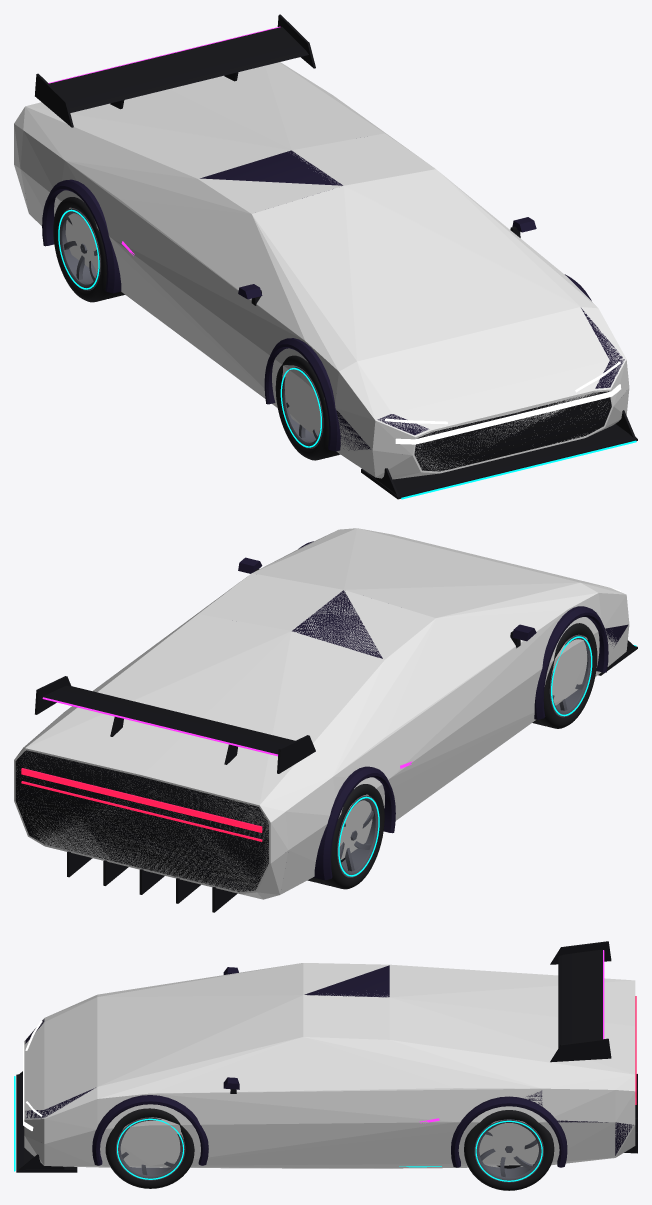
Rendered from player_car.glb.
3 views of the same model, one above another, from view 1: azimuth 30°, elevation 25°; view 2: azimuth 150°, elevation 25°; view 3: azimuth 270°, elevation 25° (orthographic). The views are drawn at different scales.
Parts seen in each view (by area): view 1: COL_body, BODY_aero, BODY, WHEEL_RR_mesh, WHEEL_FR_mesh, BODY_lights, BODY_neon; view 2: COL_body, BODY, BODY_aero, WHEEL_RR_mesh, WHEEL_FR_mesh, BODY_lights, BODY_neon; view 3: COL_body, BODY_aero, WHEEL_RL_mesh, WHEEL_FL_mesh, BODY, BODY_lights, BODY_neon.
Part boxes in pixels (x1=…): COL_body: x1=14, y1=62, x2=629, y2=479; BODY_aero: x1=35, y1=14, x2=637, y2=499; BODY: x1=200, y1=150, x2=624, y2=471; WHEEL_RR_mesh: x1=53, y1=197, x2=124, y2=302; WHEEL_FR_mesh: x1=275, y1=355, x2=340, y2=460; BODY_lights: x1=385, y1=361, x2=621, y2=444; BODY_neon: x1=48, y1=26, x2=636, y2=499; COL_body: x1=14, y1=528, x2=629, y2=899; BODY: x1=15, y1=590, x2=628, y2=891; BODY_aero: x1=35, y1=541, x2=637, y2=912; WHEEL_RR_mesh: x1=307, y1=784, x2=384, y2=889; WHEEL_FR_mesh: x1=532, y1=623, x2=597, y2=728; BODY_lights: x1=21, y1=536, x2=620, y2=841; BODY_neon: x1=42, y1=645, x2=636, y2=768; COL_body: x1=24, y1=963, x2=635, y2=1168; BODY_aero: x1=16, y1=941, x2=637, y2=1172; WHEEL_RL_mesh: x1=464, y1=1110, x2=554, y2=1190; WHEEL_FL_mesh: x1=105, y1=1108, x2=194, y2=1188; BODY: x1=25, y1=965, x2=633, y2=1155; BODY_lights: x1=23, y1=996, x2=636, y2=1130; BODY_neon: x1=14, y1=950, x2=604, y2=1171.
Bounding box in the file's own units: 2.07 × 1.21 × 4.7.
